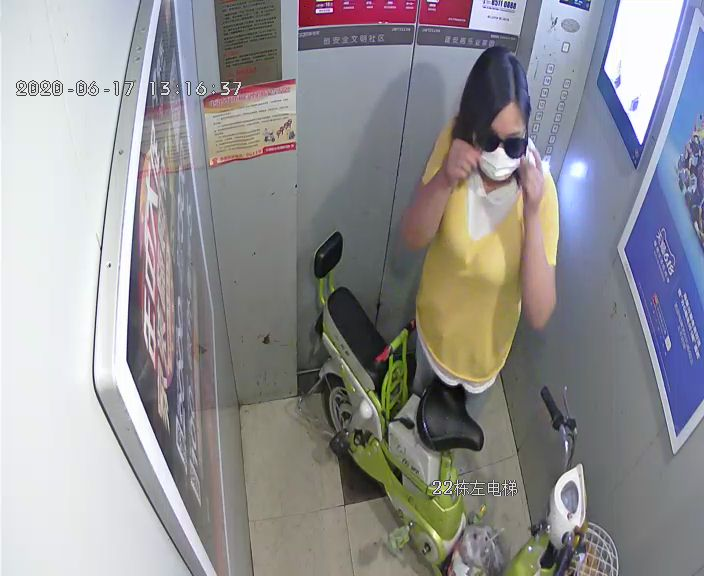Electric-bicycle: (294, 232, 615, 572)
